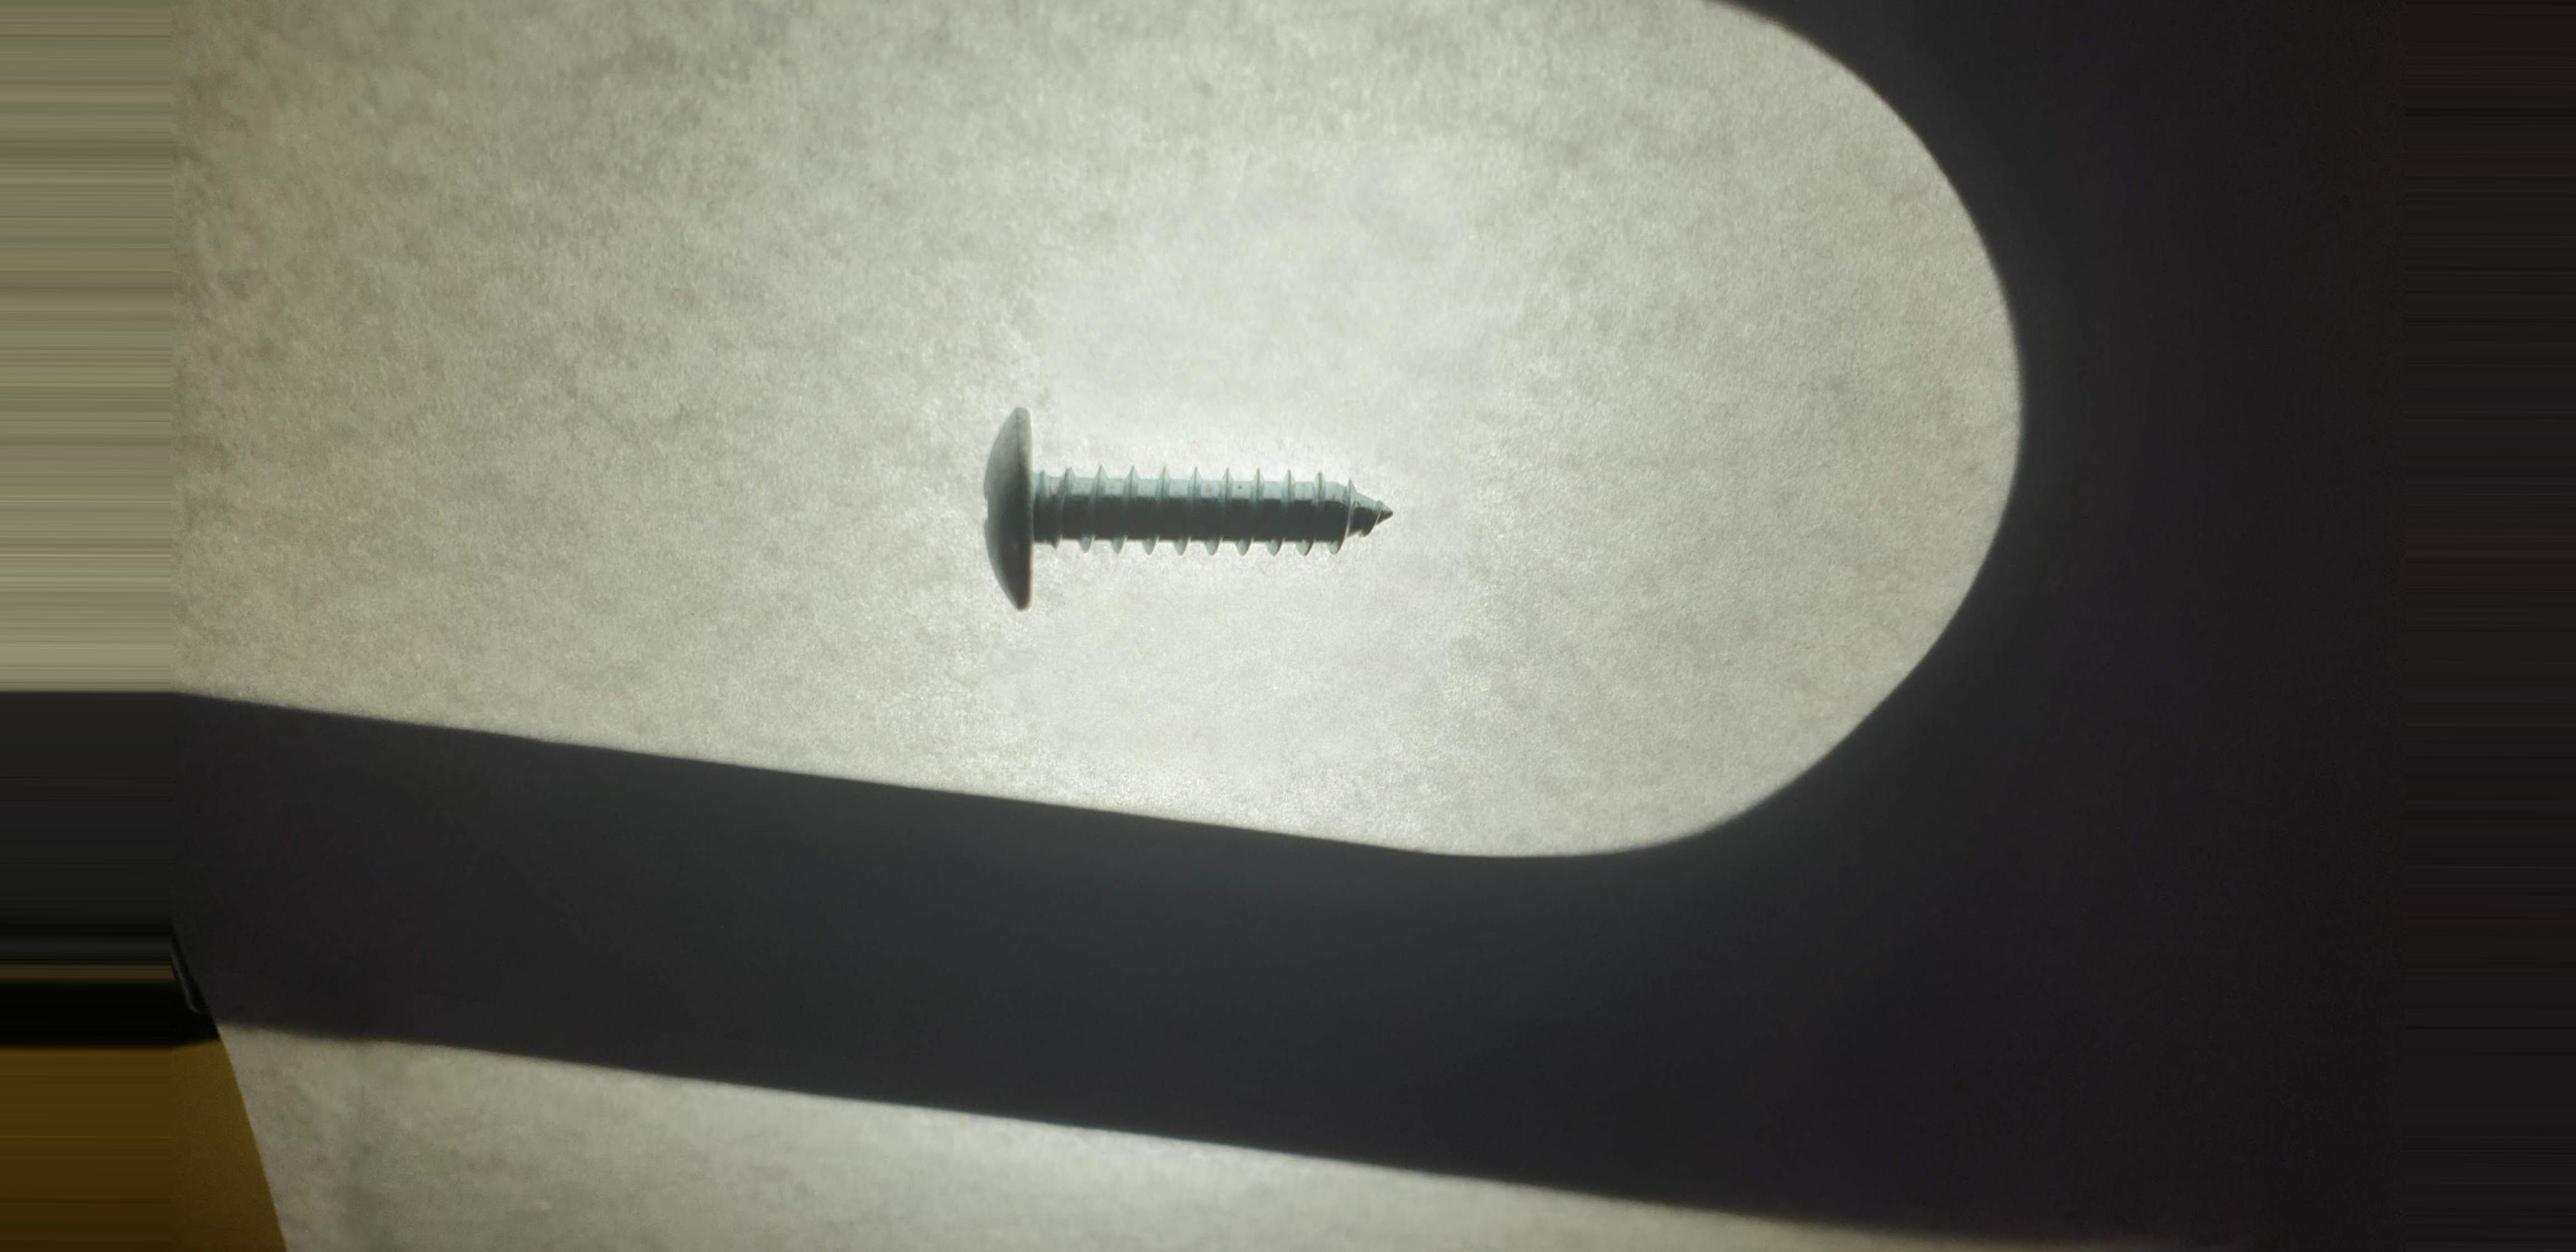S002: (910, 381, 1474, 664)
